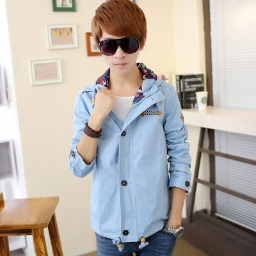face: (89, 1, 148, 69)
